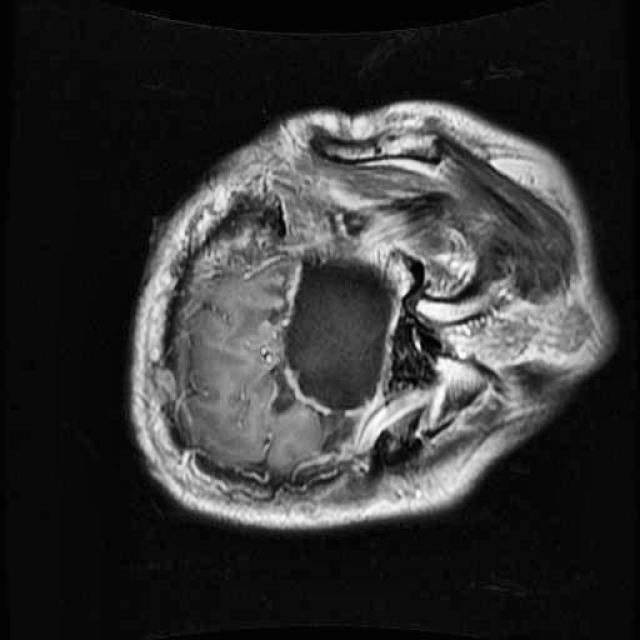Tumor: (264, 230, 414, 438)
